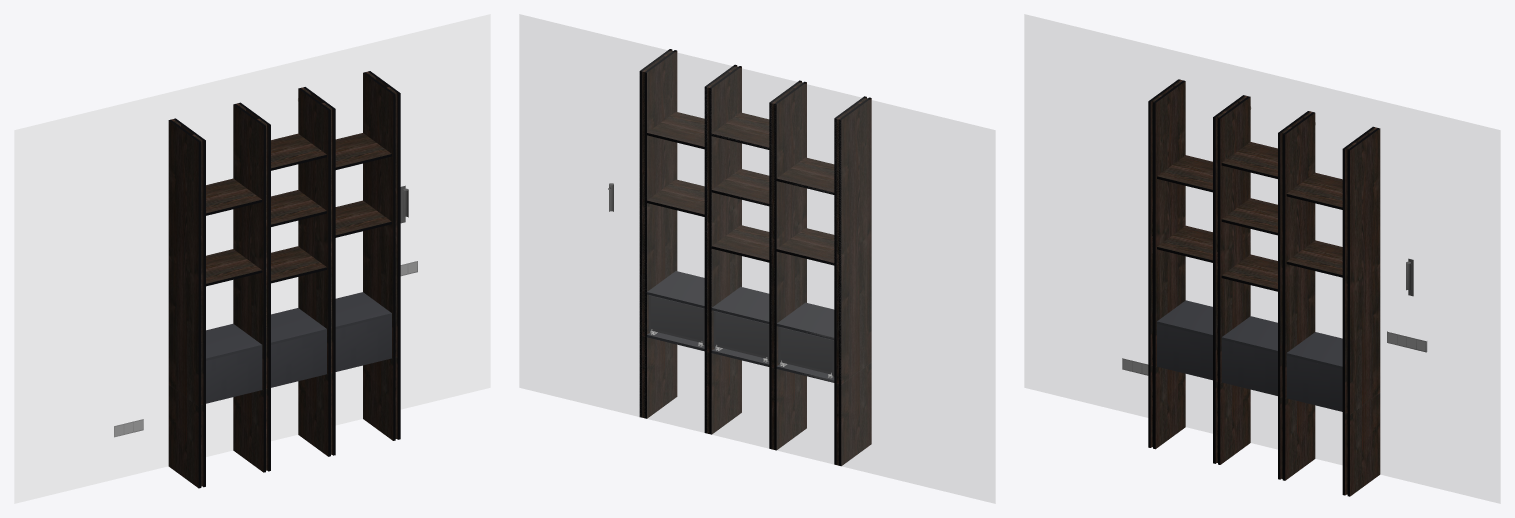
The picture shows the model from 3 angles, left to right: view 1: azimuth 30°, elevation 25°; view 2: azimuth 150°, elevation 25°; view 3: azimuth 330°, elevation 25°; orthographic projection.
Visible parts, largest first — view 1: r1, r2, r3, p22, p2, p8, p6, p37, p55, p46, p19, p5 (+14 smaller); view 2: r1, r2, r3, p22, p2, p8, p6, p33, p42, p51, p29, p28 (+16 smaller); view 3: r1, r2, r3, p19, p5, p11, p9, p55, p46, p37, p2, p22 (+14 smaller).
Boxes of the visible parts, <box> form: r1: <box>82,31,422,486</box>; r2: <box>14,114,81,503</box>; r3: <box>423,14,490,403</box>; p22: <box>168,119,201,488</box>; p2: <box>363,72,395,440</box>; p8: <box>233,104,265,472</box>; p6: <box>298,88,330,456</box>; p37: <box>206,347,262,403</box>; p55: <box>335,315,391,371</box>; p46: <box>271,331,326,387</box>; p19: <box>368,71,400,439</box>; p5: <box>303,87,335,455</box>; r1: <box>587,31,927,486</box>; r2: <box>928,114,995,503</box>; r3: <box>519,14,586,403</box>; p22: <box>839,97,871,466</box>; p2: <box>644,50,677,418</box>; p8: <box>774,81,806,450</box>; p6: <box>709,66,741,434</box>; p33: <box>780,327,832,372</box>; p42: <box>715,311,767,356</box>; p51: <box>651,295,702,340</box>; p29: <box>776,228,834,265</box>; p28: <box>776,157,834,194</box>; r1: <box>1092,31,1432,486</box>; r2: <box>1024,14,1091,403</box>; r3: <box>1433,114,1500,503</box>; p19: <box>1347,128,1380,496</box>; p5: <box>1282,112,1315,480</box>; p11: <box>1153,80,1185,449</box>; p9: <box>1218,96,1250,464</box>; p55: <box>1286,355,1342,411</box>; p46: <box>1221,340,1277,395</box>; p37: <box>1157,324,1212,380</box>; p2: <box>1342,126,1374,495</box>; p22: <box>1148,79,1180,447</box>.
Bounding box in the file's own units: 3.54 × 2.66 × 0.39.
Materials: 12 (4 with a texture image).
